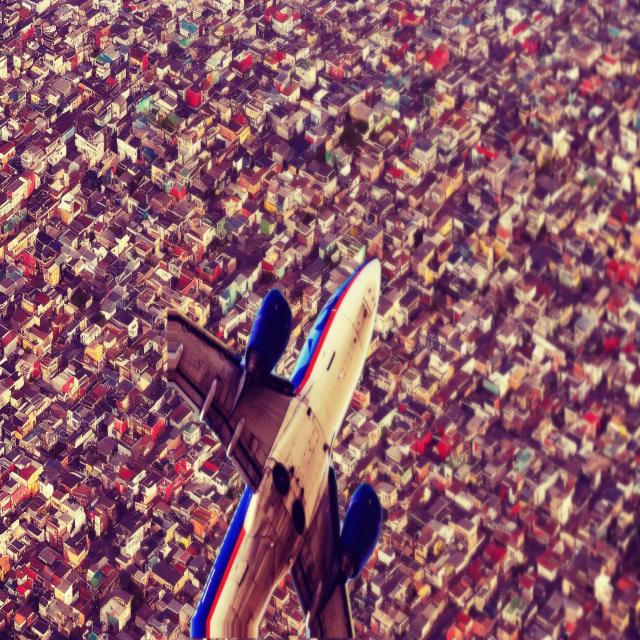airplane: (162, 252, 384, 639)
